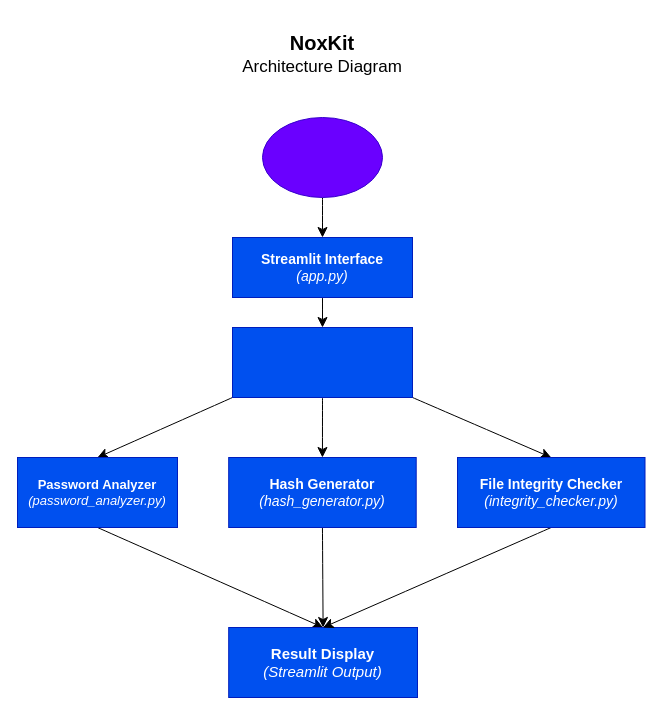
Image size: 663x715. Some labels were removed from this diagram. Here are the shapes that lost their labels. From the top down, the box of each, then its label:
(262, 116, 382, 198): User
(232, 326, 412, 398): Tool Selection
